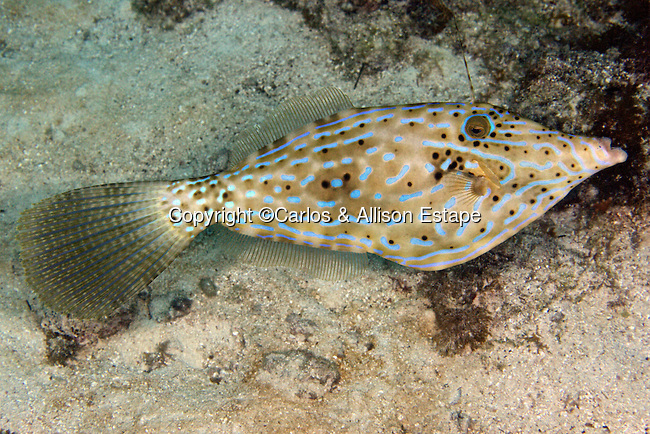Aluterus_scriptus: (16, 55, 631, 324)
